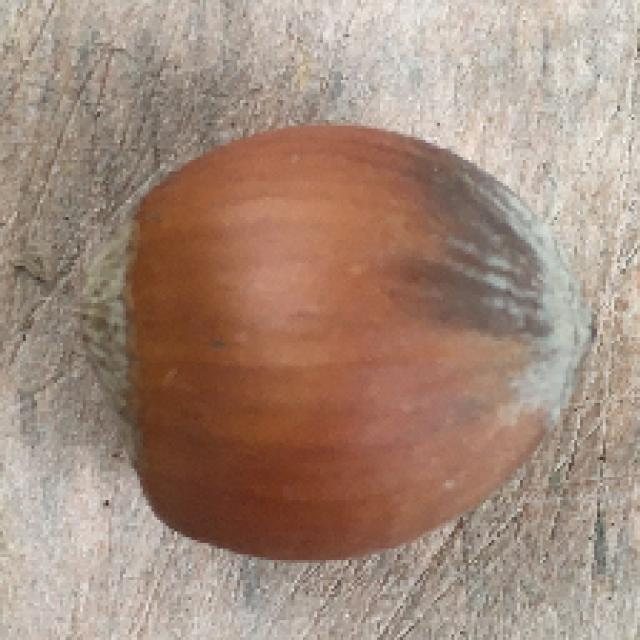damagedHazelnut: (80, 128, 582, 566)
